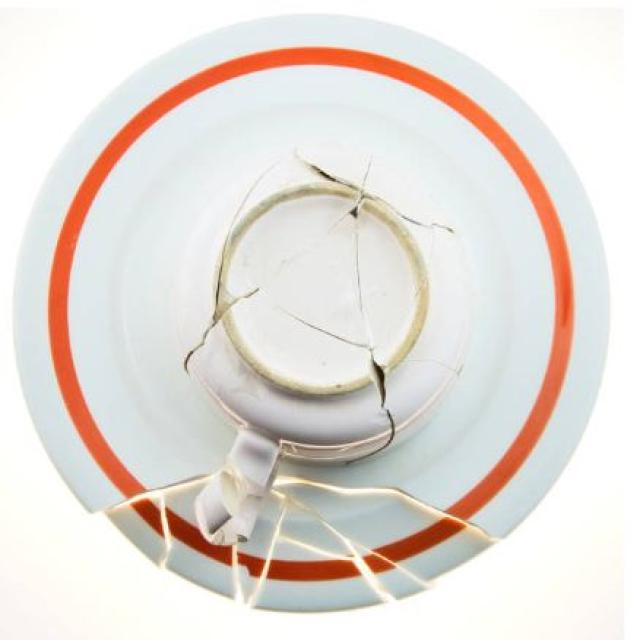electronic: (24, 41, 602, 612)
